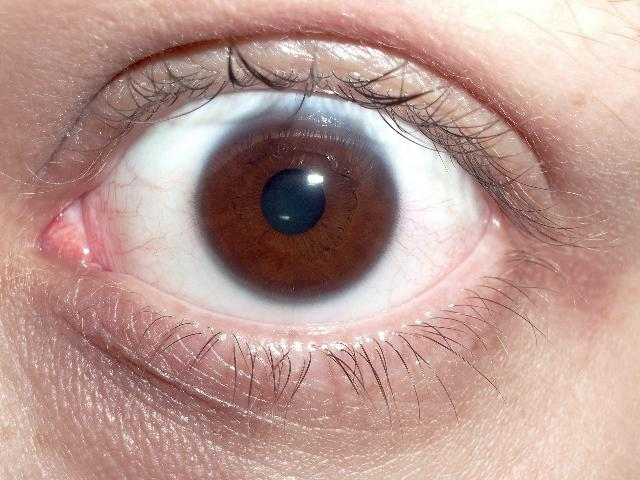eye: (190, 79, 406, 305)
